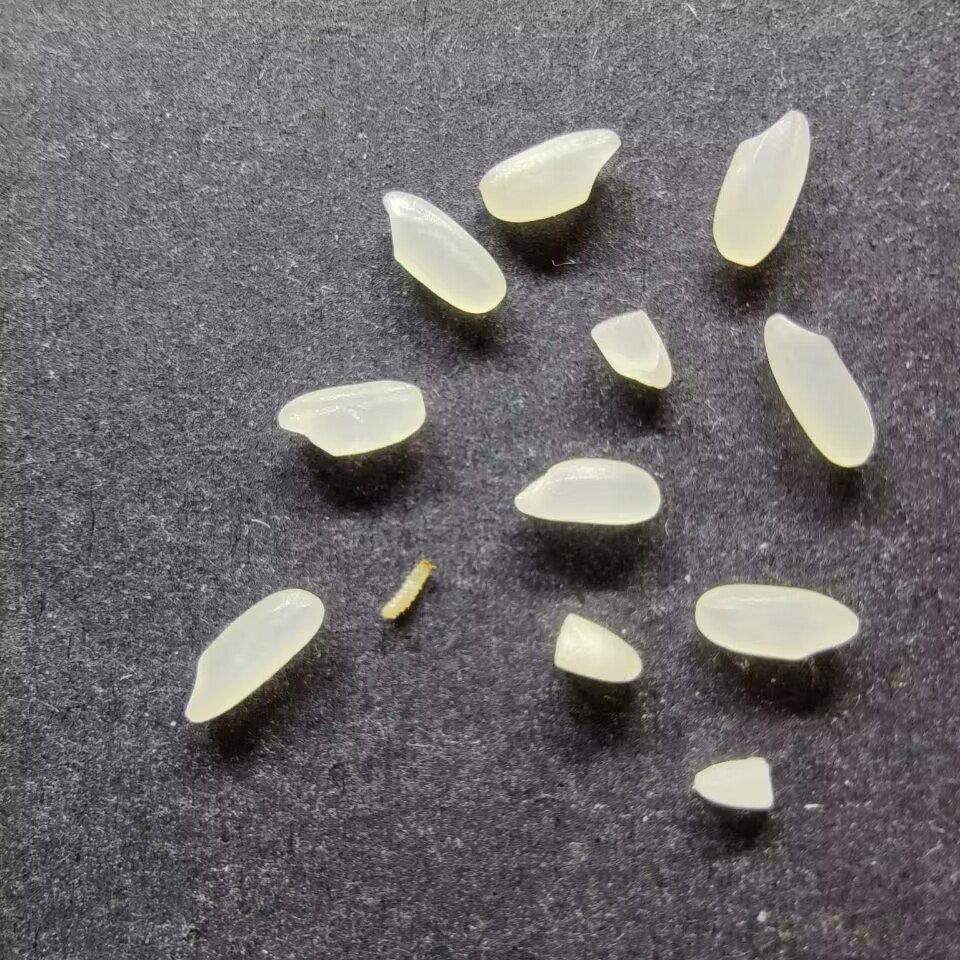broken: (590, 309, 672, 390), (553, 611, 642, 684), (692, 756, 773, 810)
others: (379, 552, 439, 621)
rice: (183, 588, 324, 724), (763, 311, 875, 468), (711, 109, 810, 267), (381, 190, 507, 314), (479, 128, 621, 222), (694, 583, 860, 661), (277, 379, 425, 457), (513, 458, 660, 525)
